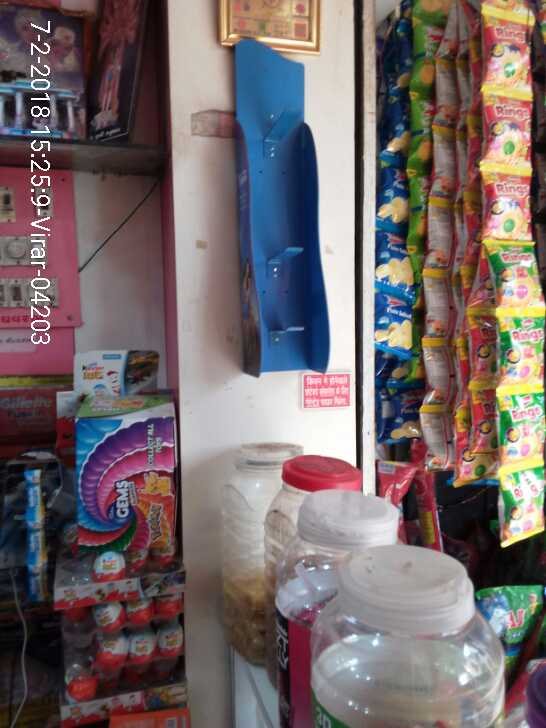reject: (200, 236, 308, 349)
